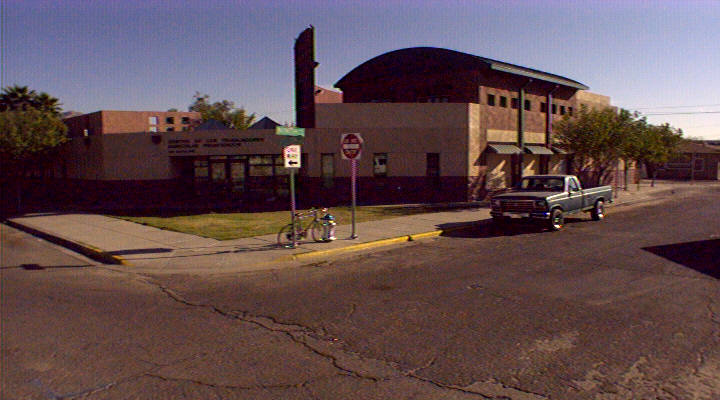Ramp: (110, 237, 301, 278)
